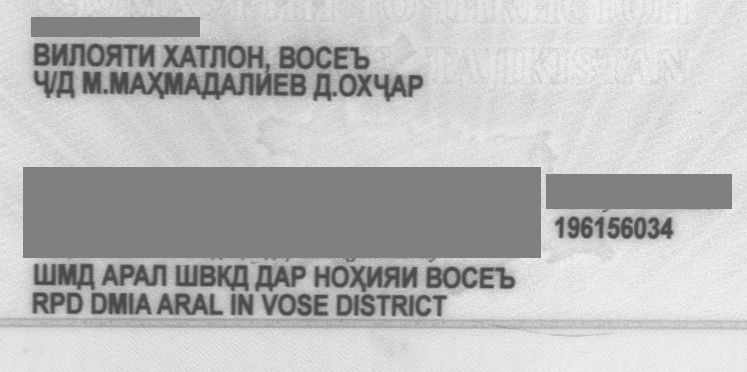0: (633, 212, 651, 240)
1: (553, 212, 569, 240), (593, 212, 609, 240)
3: (645, 213, 663, 241)
4: (657, 213, 677, 241)
5: (604, 212, 624, 240)
6: (578, 212, 596, 240), (620, 212, 636, 240)
9: (565, 212, 583, 240)
А: (182, 63, 204, 103), (128, 62, 148, 102), (218, 63, 238, 103), (132, 257, 150, 297), (273, 257, 291, 297), (392, 64, 408, 104), (104, 257, 120, 297), (179, 39, 197, 73)
В: (289, 63, 317, 103), (196, 257, 216, 297), (427, 257, 443, 297), (35, 39, 53, 73), (281, 40, 297, 74)
Д: (230, 257, 258, 297), (59, 62, 83, 102), (201, 63, 219, 103), (256, 257, 274, 297), (315, 63, 331, 103), (78, 257, 94, 297)
Е: (271, 63, 291, 103), (332, 40, 352, 74)
И: (398, 257, 426, 297), (138, 39, 162, 73), (254, 63, 272, 103), (365, 257, 383, 297), (49, 39, 67, 73)
К: (214, 257, 232, 297)
Л: (237, 63, 257, 103), (66, 39, 86, 73), (149, 257, 165, 297), (209, 39, 225, 73)
М: (55, 257, 77, 297), (159, 62, 179, 102), (108, 62, 126, 102), (83, 62, 99, 102)
Н: (244, 39, 264, 73), (316, 257, 332, 297)
О: (329, 257, 349, 297), (83, 39, 103, 73), (224, 39, 244, 73), (294, 40, 314, 74), (339, 64, 355, 104)
Р: (405, 64, 431, 104), (290, 257, 314, 297), (117, 257, 133, 297)
С: (313, 40, 333, 74)
Т: (126, 39, 142, 73), (199, 39, 215, 73)
Х: (354, 64, 374, 104), (164, 39, 182, 73)
Ч: (371, 64, 391, 104)
Ш: (32, 257, 54, 297), (176, 257, 194, 297)
Ъ: (349, 40, 377, 74)
Я: (102, 39, 124, 73), (381, 257, 399, 297)
е: (476, 257, 496, 297)
о: (440, 257, 460, 297)
с: (460, 257, 480, 297)
ъ: (495, 257, 523, 297)
Ҳ: (348, 257, 368, 297), (148, 62, 164, 102)
Ҷ: (36, 62, 48, 102)
